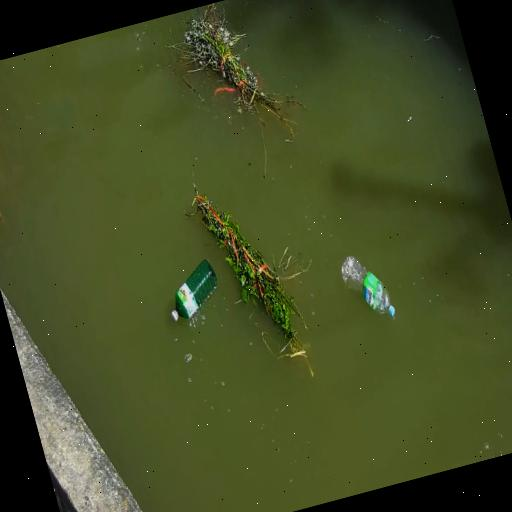plastic: (334, 246, 402, 334), (156, 256, 228, 332)
twig: (200, 172, 325, 361), (179, 0, 287, 137), (0, 60, 35, 216)
